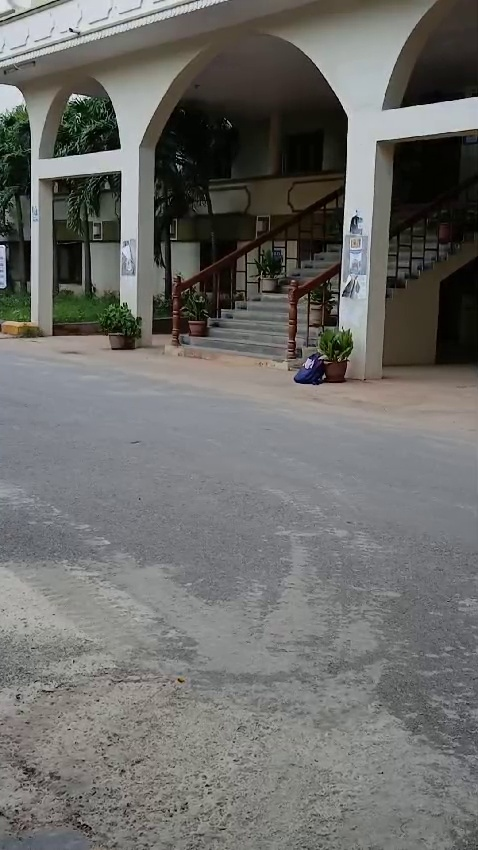bag: (298, 343, 323, 393)
